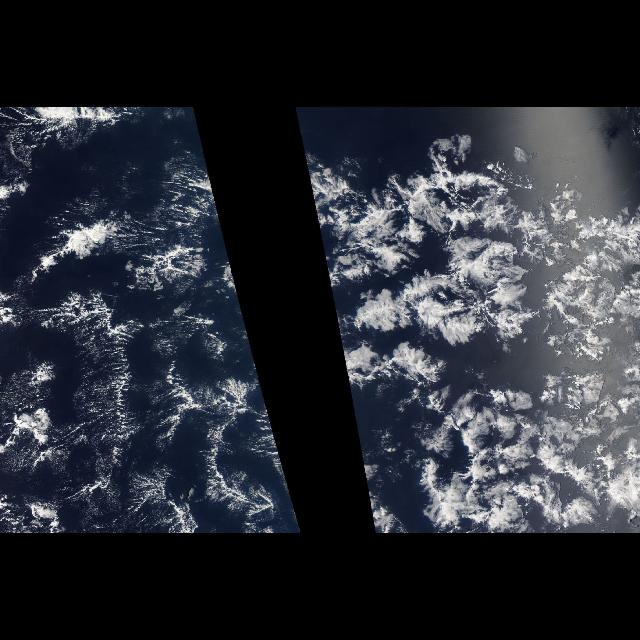Fish: (18, 300, 256, 530), (140, 155, 242, 297)
Flower: (300, 136, 640, 530)
